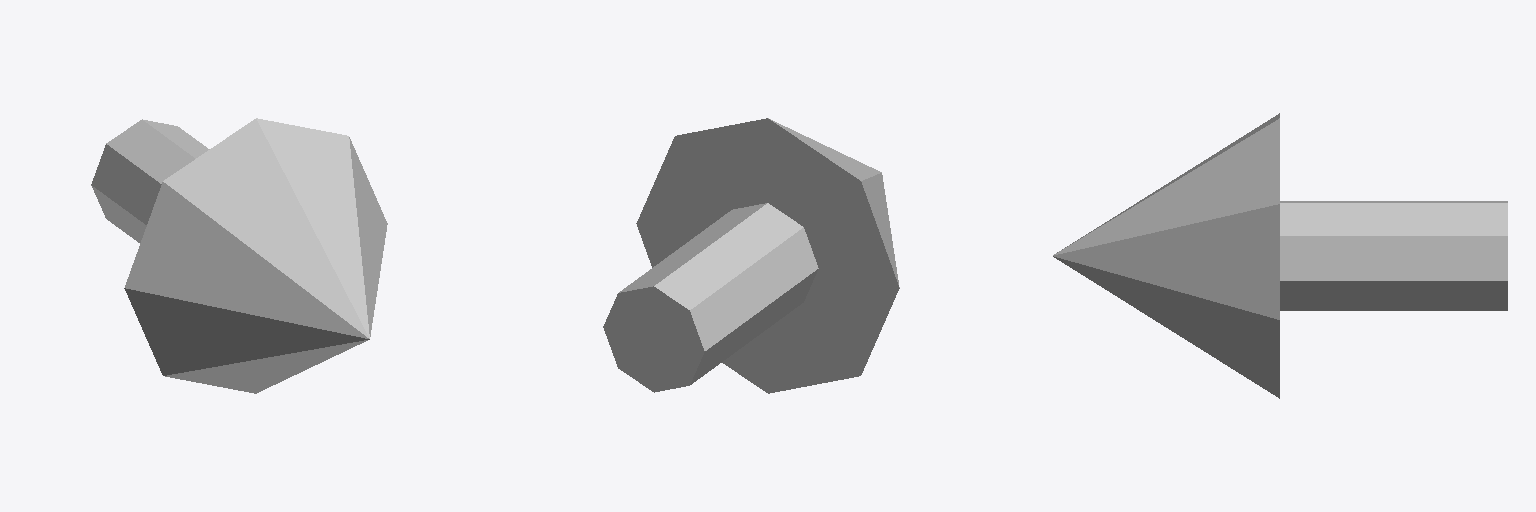
The model's file is actionArrow.obj.
3 renders of one model, left to right at view 1: azimuth 30°, elevation 25°; view 2: azimuth 150°, elevation 25°; view 3: azimuth 270°, elevation 25°, orthographic.
Visible parts, largest first — view 1: actionArrow; view 2: actionArrow; view 3: actionArrow.
Boxes of the visible parts, x1,y1,x2,y2 form: actionArrow: [91, 118, 387, 393]; actionArrow: [603, 118, 899, 393]; actionArrow: [1053, 113, 1507, 398].
Size of the model in its own units: 2 by 2 by 3.